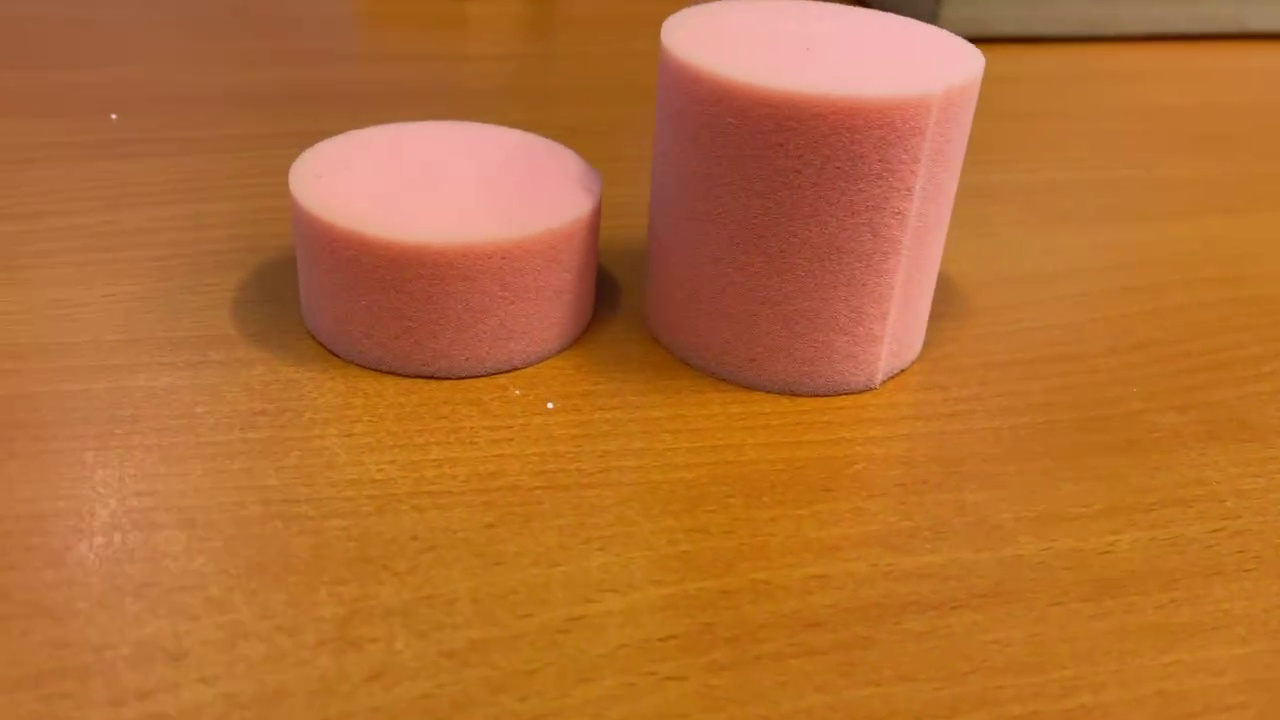Clyinder_short: (279, 115, 608, 383)
Cylinder: (634, 1, 990, 400)
